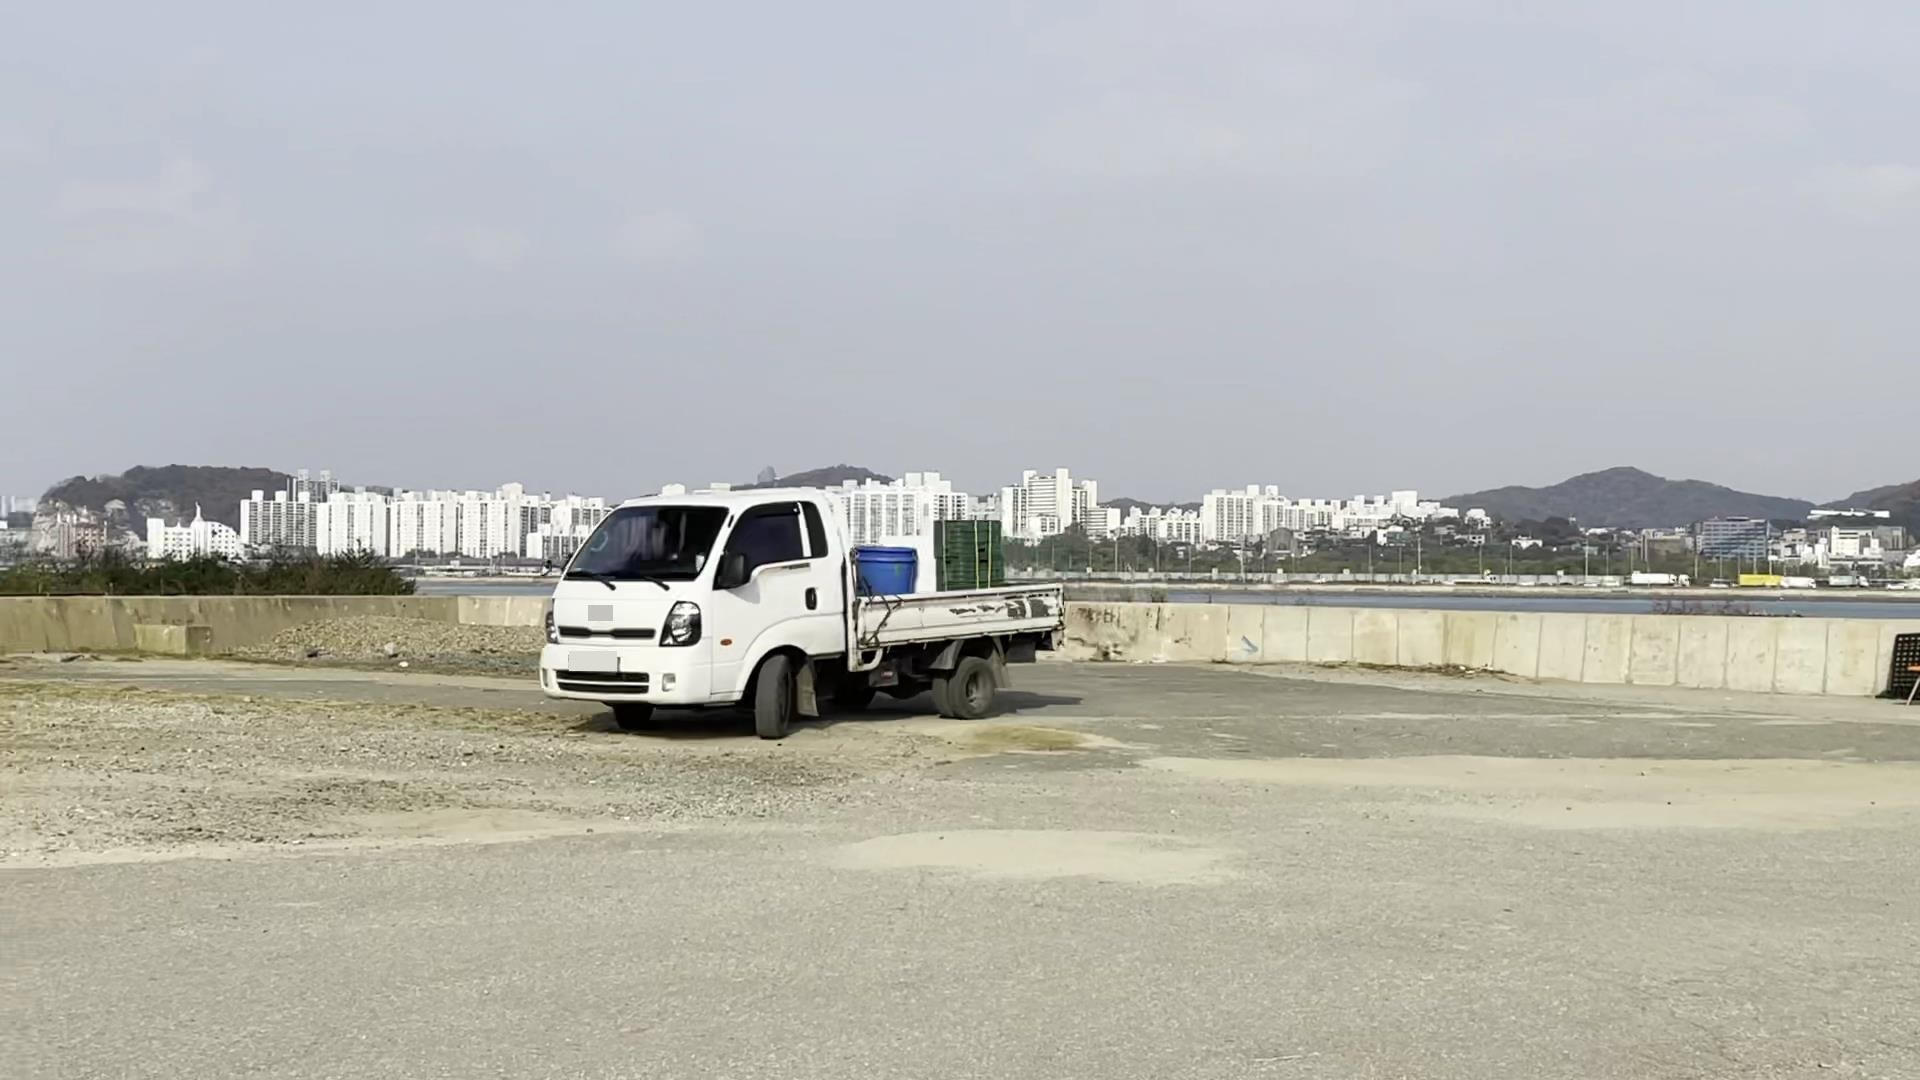불법차량: (539, 489, 1067, 737)
